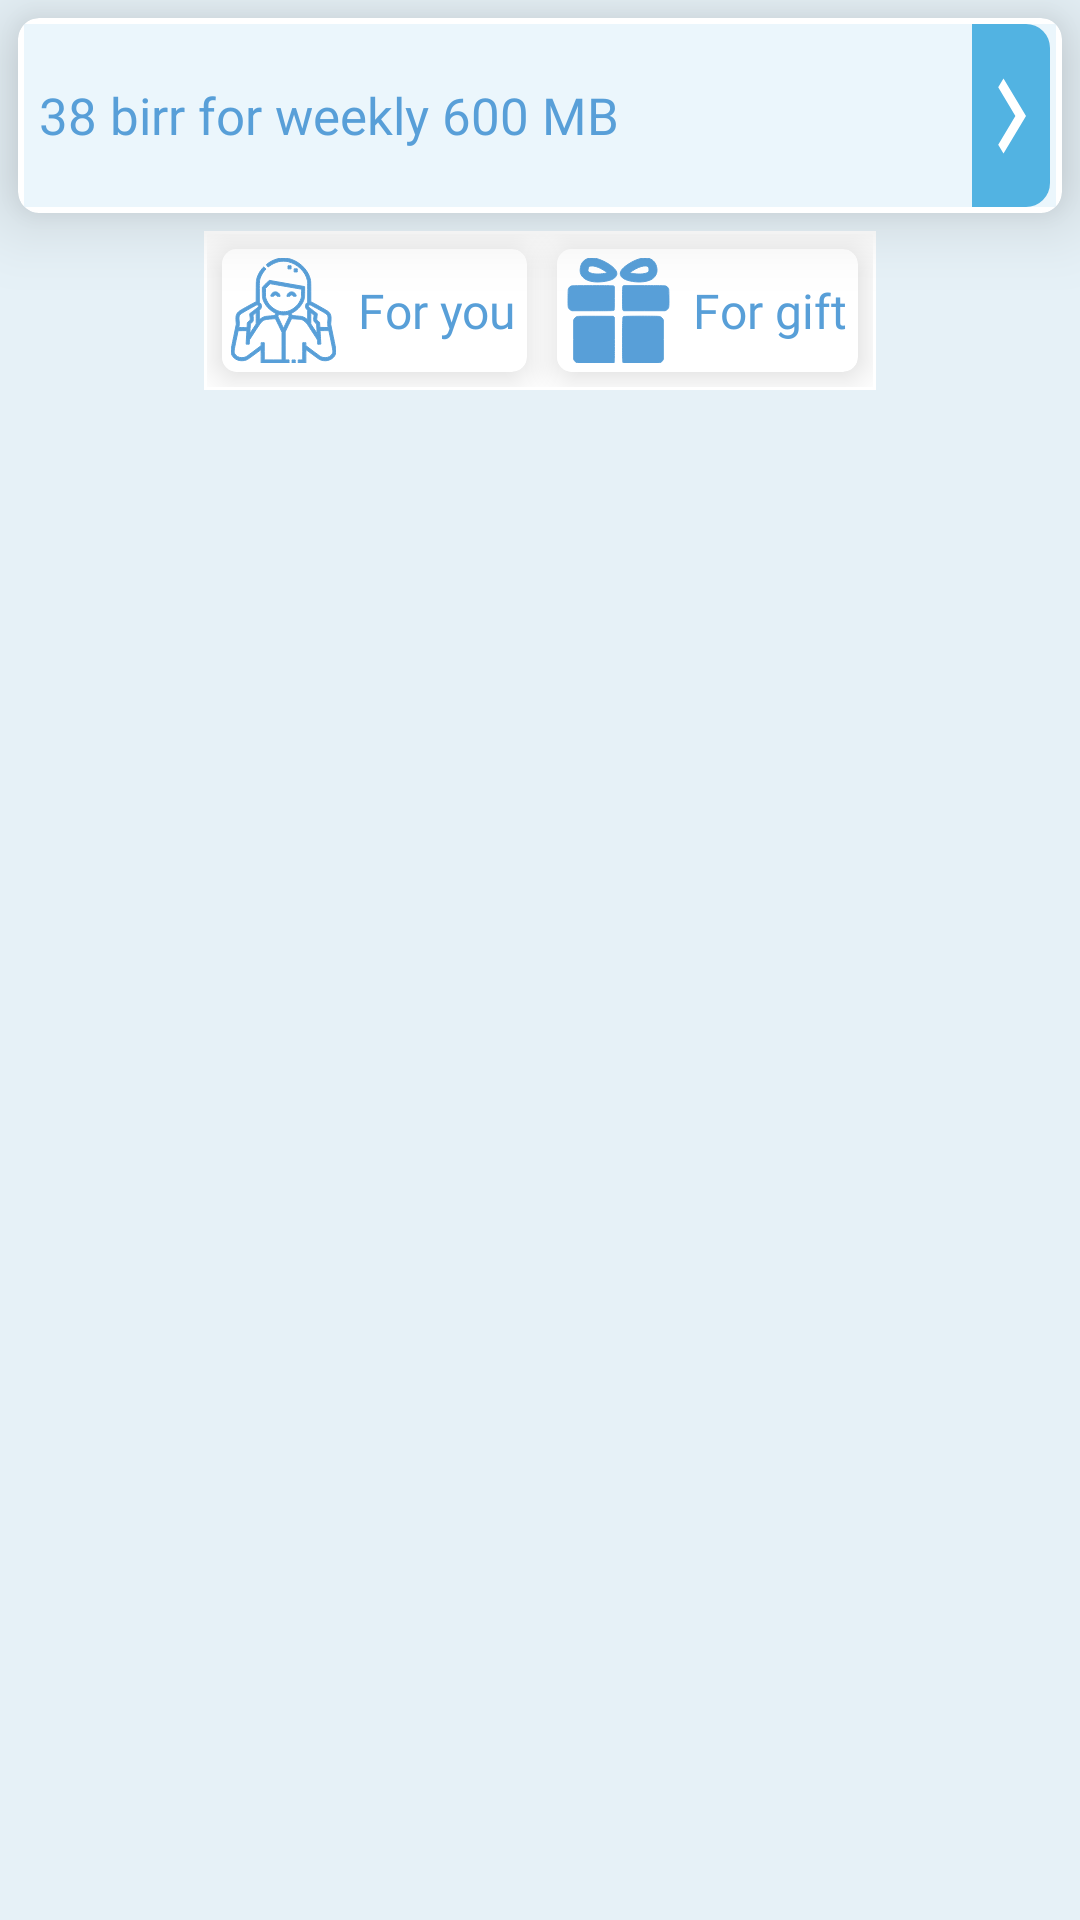

Icon click points for this 1080px×1920px phone screenshot, format (x,y):
formyself: (283,310)
right: (1011,115)
